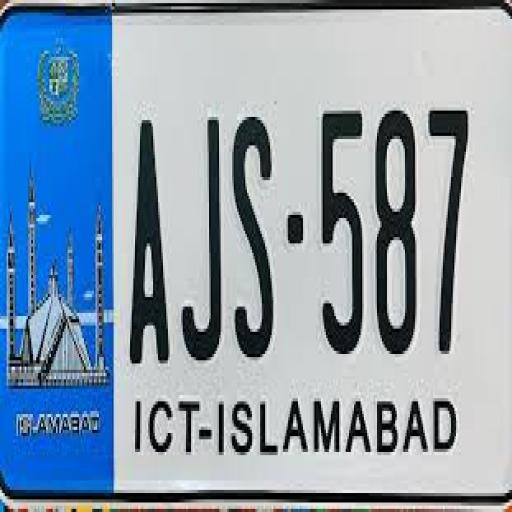5: (317, 114, 374, 360)
7: (424, 100, 484, 372)
8: (375, 110, 422, 372)
A: (118, 116, 175, 371)
J: (179, 124, 226, 374)
S: (232, 106, 282, 361)
